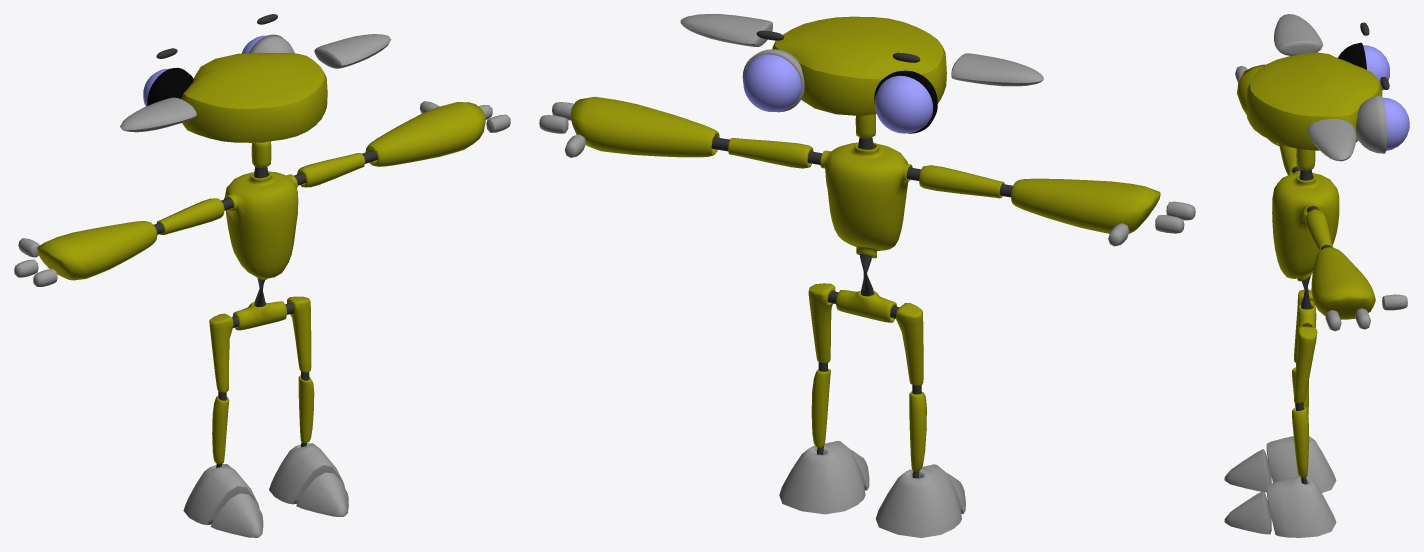
Rendered from die9.obj.
3 views of the same model, side by side, from view 1: azimuth 30°, elevation 25°; view 2: azimuth 150°, elevation 25°; view 3: azimuth 270°, elevation 25° (orthographic). The views are drawn at different scales.
Parts seen in each view (by area): view 1: Mesh polySurface41, Mesh polySurface50, Mesh polySurface48, Mesh polySurface37, Mesh polySurface18, Mesh polySurface26, Mesh polySurface10, Mesh polySurface24, Mesh polySurface8, Mesh polySurface44, Mesh polySurface28, Mesh polySurface51 (+8 smaller); view 2: Mesh polySurface41, Mesh polySurface50, Mesh polySurface37, Mesh polySurface18, Mesh polySurface26, Mesh polySurface10, Mesh polySurface48, Mesh polySurface22, Mesh polySurface6, Mesh polySurface44, Mesh polySurface51, Mesh polySurface38 (+6 smaller); view 3: Mesh polySurface50, Mesh polySurface41, Mesh polySurface10, Mesh polySurface37, Mesh polySurface48, Mesh polySurface26, Mesh polySurface47, Mesh polySurface21, Mesh polySurface12, Mesh polySurface8, Mesh polySurface24, Mesh polySurface44 (+14 smaller).
Boxes of the visible parts, bbox=[...] form: Mesh polySurface41: bbox=[224, 171, 298, 279]; Mesh polySurface50: bbox=[183, 53, 324, 108]; Mesh polySurface48: bbox=[181, 73, 327, 142]; Mesh polySurface37: bbox=[365, 102, 485, 166]; Mesh polySurface18: bbox=[37, 221, 157, 280]; Mesh polySurface26: bbox=[183, 464, 259, 524]; Mesh polySurface10: bbox=[269, 443, 344, 504]; Mesh polySurface24: bbox=[210, 493, 263, 537]; Mesh polySurface8: bbox=[296, 472, 348, 516]; Mesh polySurface44: bbox=[120, 97, 196, 129]; Mesh polySurface28: bbox=[209, 313, 233, 392]; Mesh polySurface51: bbox=[156, 198, 224, 234]; Mesh polySurface41: bbox=[820, 142, 912, 258]; Mesh polySurface50: bbox=[775, 16, 943, 79]; Mesh polySurface37: bbox=[570, 96, 719, 157]; Mesh polySurface18: bbox=[1011, 178, 1160, 233]; Mesh polySurface26: bbox=[875, 464, 961, 537]; Mesh polySurface10: bbox=[779, 440, 865, 514]; Mesh polySurface48: bbox=[772, 41, 946, 115]; Mesh polySurface22: bbox=[743, 54, 801, 111]; Mesh polySurface6: bbox=[875, 75, 933, 133]; Mesh polySurface44: bbox=[951, 53, 1043, 82]; Mesh polySurface51: bbox=[919, 165, 1004, 198]; Mesh polySurface38: bbox=[728, 138, 813, 168]; Mesh polySurface50: bbox=[1250, 52, 1378, 116]; Mesh polySurface41: bbox=[1272, 170, 1339, 281]; Mesh polySurface10: bbox=[1266, 476, 1336, 537]; Mesh polySurface37: bbox=[1311, 247, 1375, 319]; Mesh polySurface48: bbox=[1246, 80, 1382, 150]; Mesh polySurface26: bbox=[1266, 436, 1336, 492]; Mesh polySurface47: bbox=[1307, 119, 1356, 159]; Mesh polySurface21: bbox=[1356, 95, 1386, 153]; Mesh polySurface12: bbox=[1294, 326, 1317, 403]; Mesh polySurface8: bbox=[1224, 491, 1269, 534]; Mesh polySurface24: bbox=[1224, 449, 1268, 492]; Mesh polySurface44: bbox=[1274, 14, 1323, 49].
Size of the model in its own units: 17.68 by 14.23 by 5.37.
